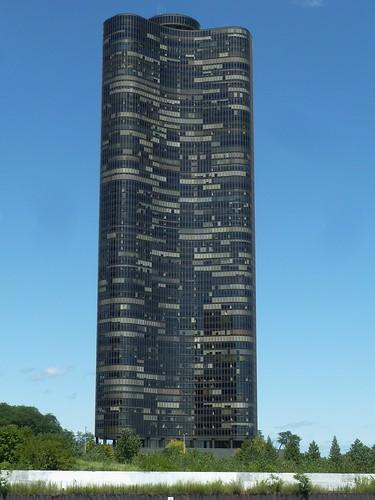building: (94, 7, 266, 465)
